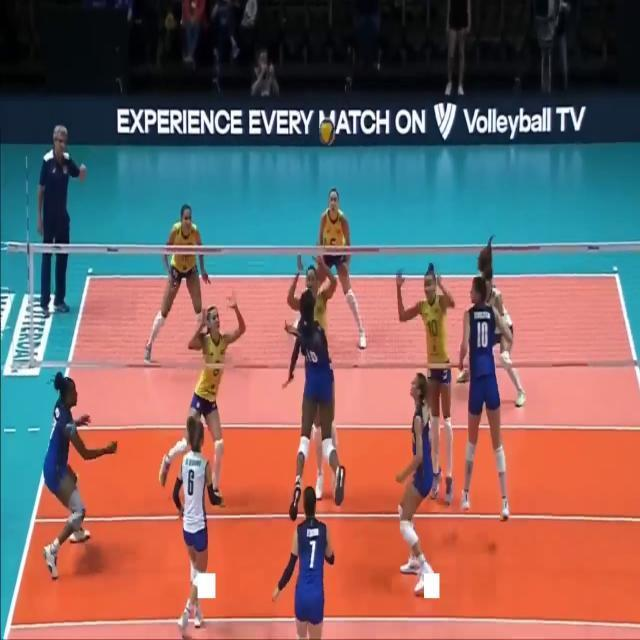volleyball: (318, 119, 334, 145)
